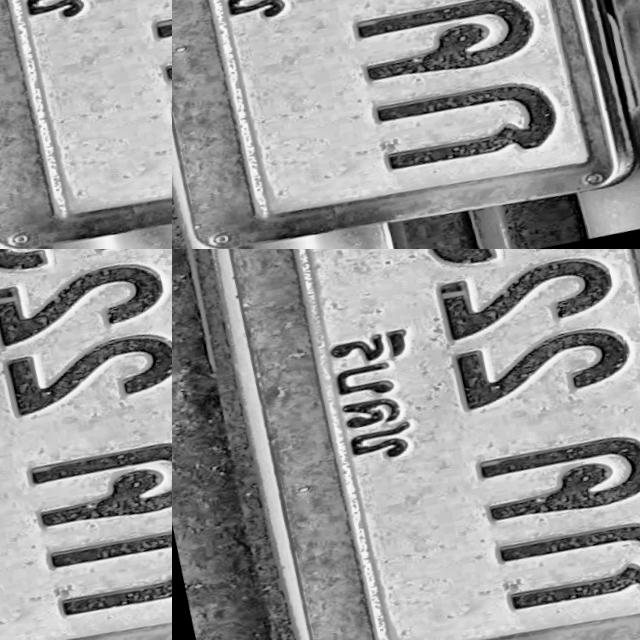license-plate: (172, 249, 640, 640), (503, 71, 640, 249)
